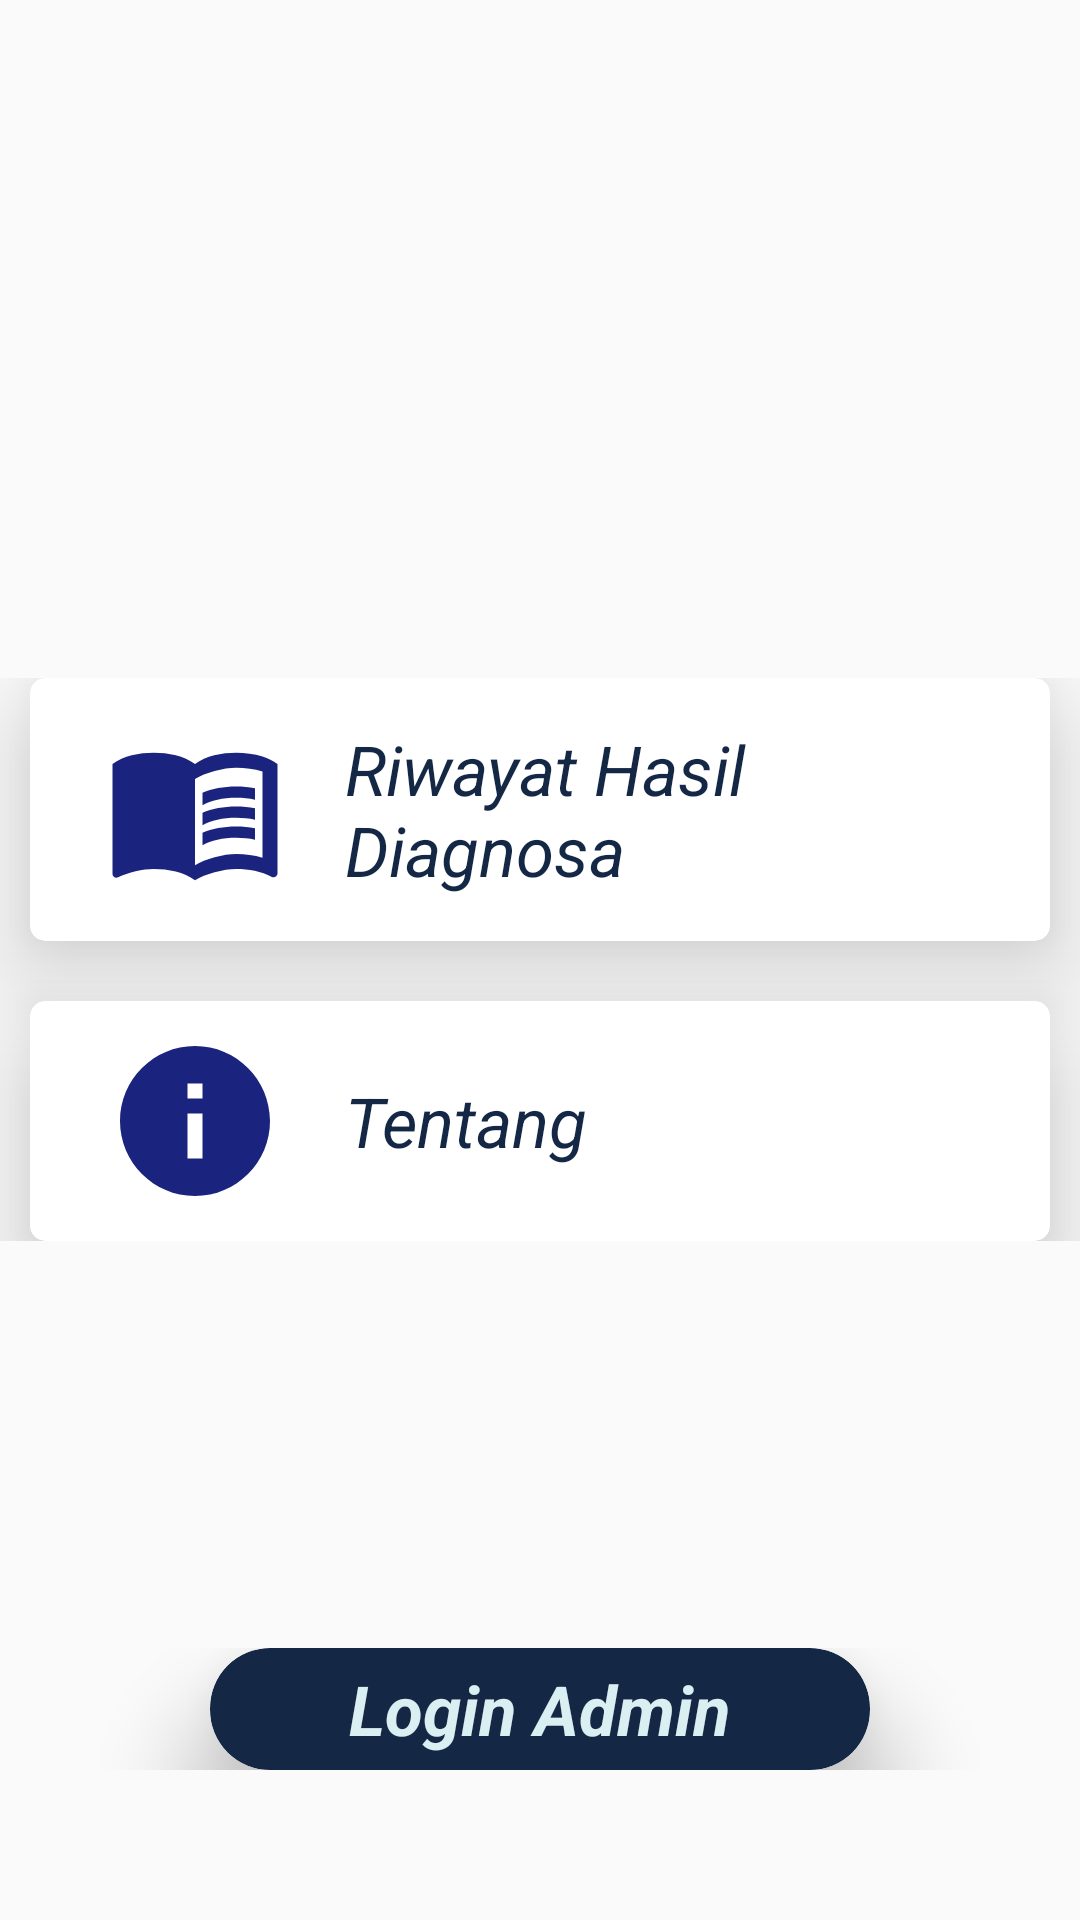

Icon bounding boxes for this 1080px x 1920px phone screenshot, format {"x1": x1, "y1": y1, "x2": x2, "y2": y2}:
book: {"x1": 112, "y1": 752, "x2": 278, "y2": 880}
info: {"x1": 120, "y1": 1046, "x2": 270, "y2": 1196}
